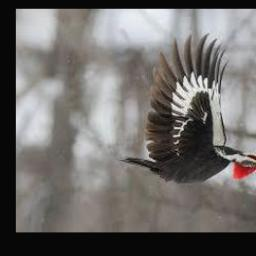Woodpecker: (121, 36, 256, 183)
